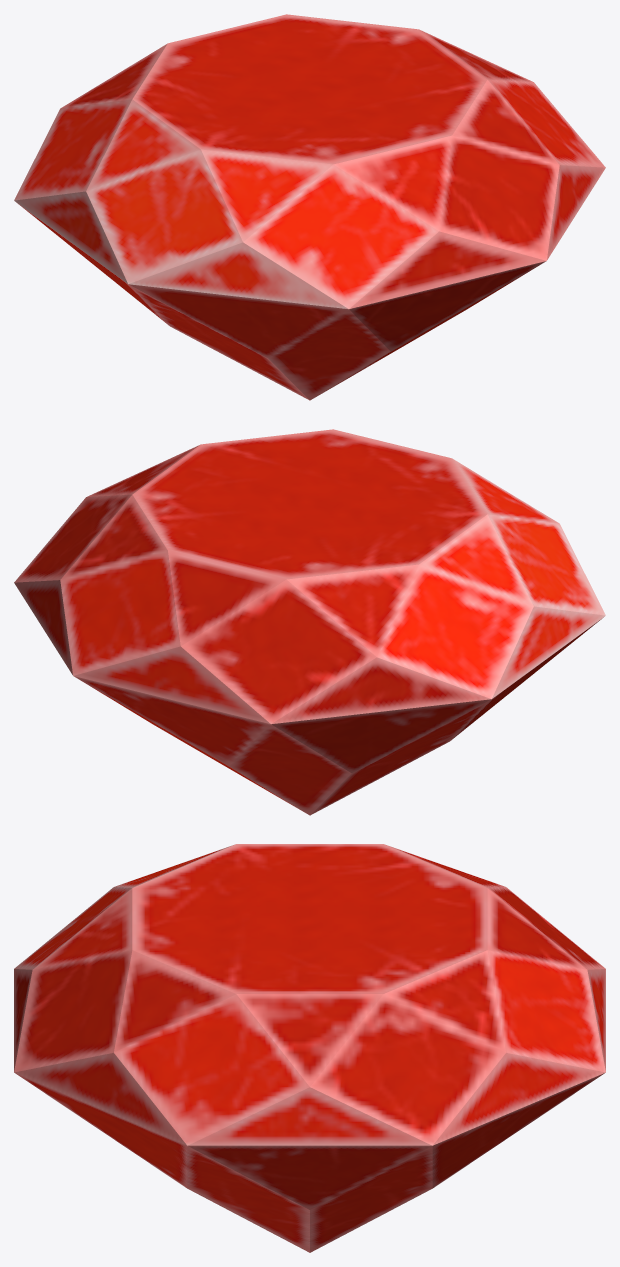
File: gem.fbx
3 renders of one model, top to bottom at view 1: azimuth 30°, elevation 25°; view 2: azimuth 150°, elevation 25°; view 3: azimuth 270°, elevation 25°, orthographic. The views are drawn at different scales.
Visible parts, largest first — view 1: Gem; view 2: Gem; view 3: Gem.
Boxes of the visible parts, bbox=[...] form: Gem: bbox=[14, 14, 605, 400]; Gem: bbox=[14, 429, 605, 815]; Gem: bbox=[14, 844, 605, 1252].
Size of the model in its own units: 185 by 115 by 185.
